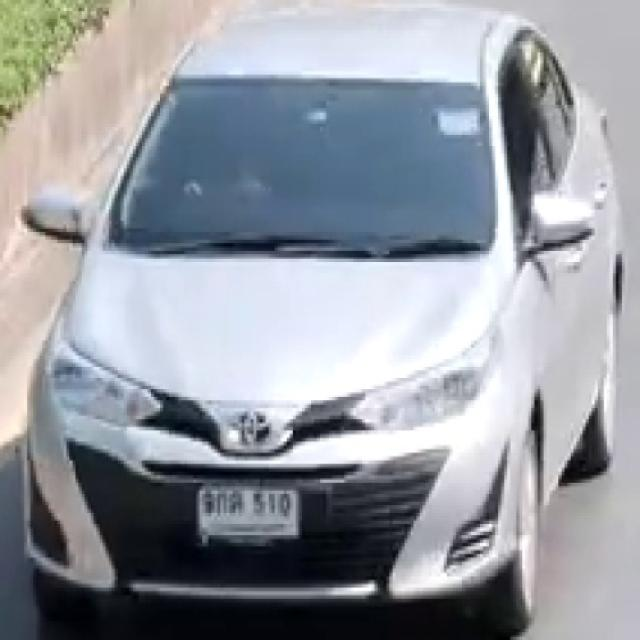plate: (196, 482, 300, 541)
